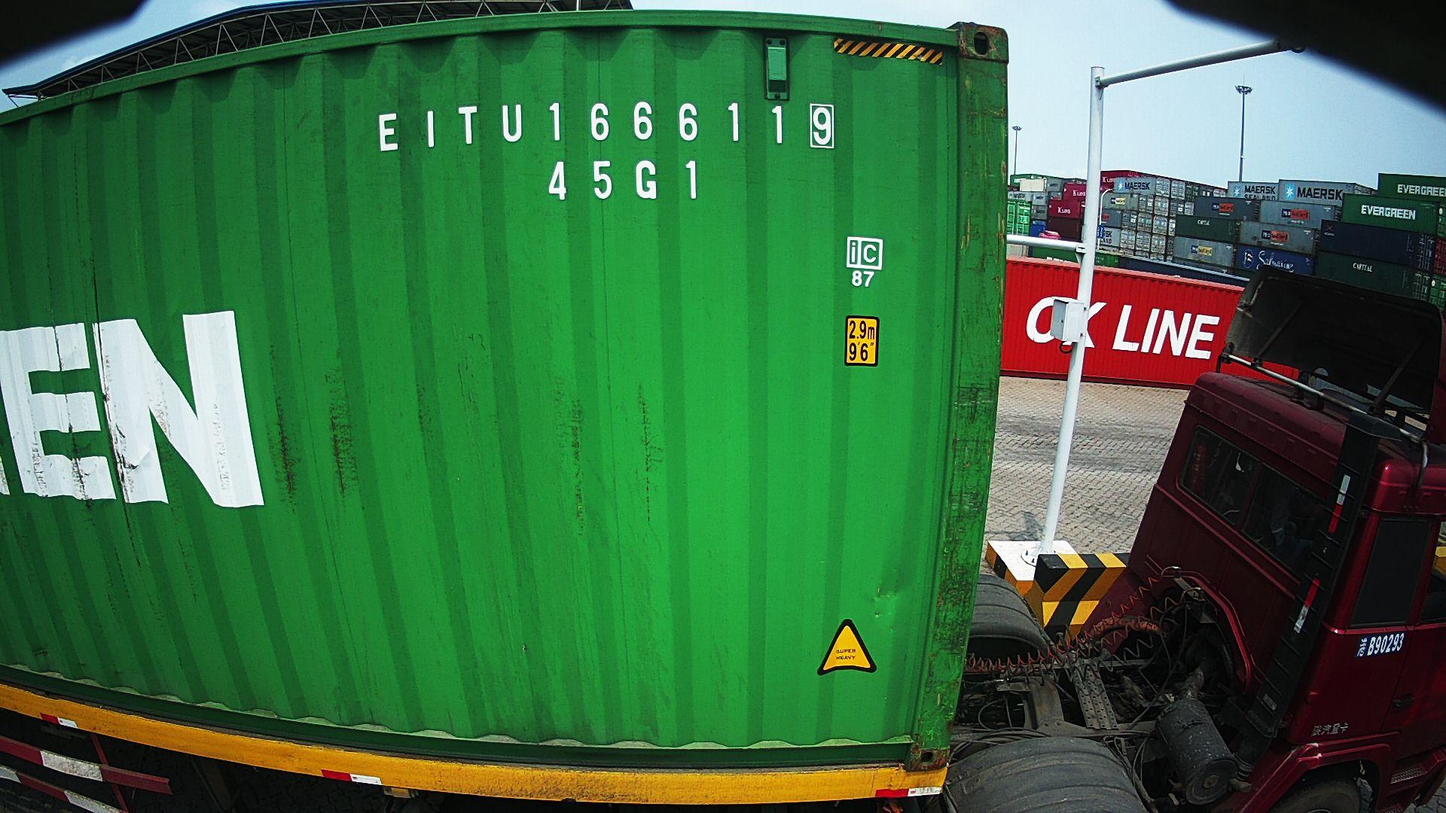container-numbers: (373, 98, 841, 156), (542, 155, 703, 205)
